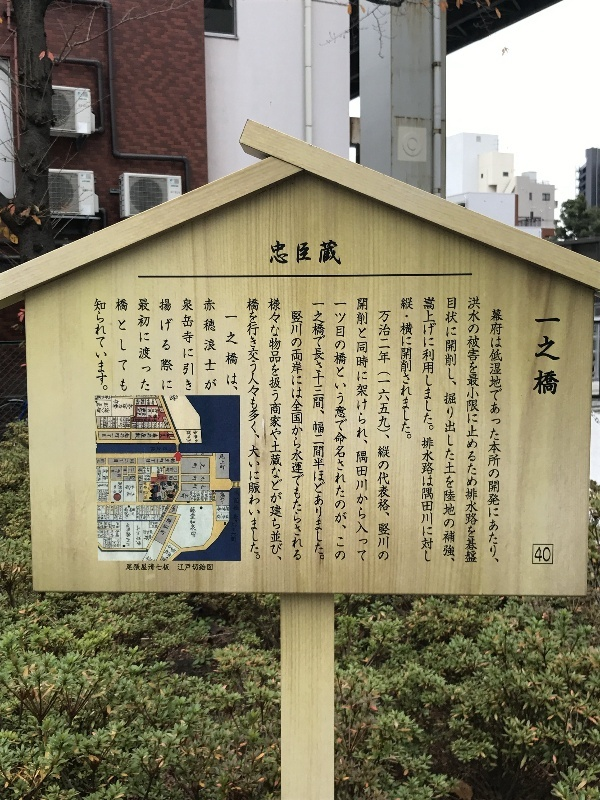text: (291, 309, 304, 562), (356, 295, 368, 566), (468, 296, 480, 566), (273, 296, 283, 563), (337, 300, 347, 563), (449, 296, 458, 563), (247, 296, 256, 561), (424, 295, 432, 564), (312, 301, 320, 563), (402, 296, 416, 442), (497, 307, 504, 564), (385, 308, 392, 561), (378, 308, 384, 561), (545, 315, 561, 397), (321, 301, 326, 563), (491, 307, 496, 564), (116, 297, 128, 393), (97, 298, 109, 392), (161, 298, 173, 390), (433, 295, 437, 564), (268, 296, 272, 563), (257, 296, 261, 561), (225, 313, 238, 393), (182, 297, 192, 392), (534, 315, 544, 397), (209, 298, 217, 391), (97, 504, 112, 550), (113, 504, 128, 550), (129, 504, 144, 550), (145, 504, 160, 550), (138, 298, 144, 391), (145, 298, 151, 391), (97, 466, 112, 502), (334, 300, 336, 563), (97, 396, 112, 431), (113, 396, 128, 431), (129, 396, 144, 431), (145, 396, 160, 431), (203, 298, 208, 391), (161, 504, 171, 550), (273, 239, 288, 266), (289, 239, 304, 266), (305, 239, 320, 266), (321, 239, 336, 266), (161, 396, 172, 431), (193, 462, 206, 490), (447, 296, 448, 563), (161, 518, 174, 538), (161, 467, 176, 482), (113, 481, 128, 495), (145, 467, 151, 501), (217, 492, 224, 520), (234, 490, 240, 522), (94, 298, 96, 392), (231, 523, 240, 543), (139, 467, 144, 501), (193, 491, 208, 502), (337, 239, 343, 266), (535, 545, 544, 562), (177, 563, 192, 572), (193, 563, 208, 572), (193, 507, 197, 539), (145, 431, 159, 440), (129, 564, 144, 572), (145, 564, 160, 572), (113, 431, 128, 439), (113, 457, 128, 465), (545, 545, 552, 562), (225, 492, 229, 520), (113, 468, 122, 479), (185, 429, 192, 443), (193, 429, 200, 443), (218, 454, 224, 470), (193, 297, 194, 392), (159, 298, 160, 390), (145, 458, 160, 464), (161, 458, 176, 464), (134, 431, 144, 440), (161, 564, 171, 572), (102, 431, 112, 439), (209, 491, 216, 502), (129, 485, 135, 497), (94, 396, 96, 431), (190, 507, 192, 539), (129, 468, 144, 472), (182, 493, 192, 499), (270, 239, 272, 266), (129, 457, 135, 465), (209, 563, 214, 572), (125, 485, 128, 497), (129, 476, 136, 481), (189, 491, 192, 502), (158, 467, 160, 482), (126, 564, 128, 572), (129, 431, 131, 439), (124, 468, 128, 472), (177, 467, 178, 482), (111, 468, 112, 479), (126, 476, 128, 481)
